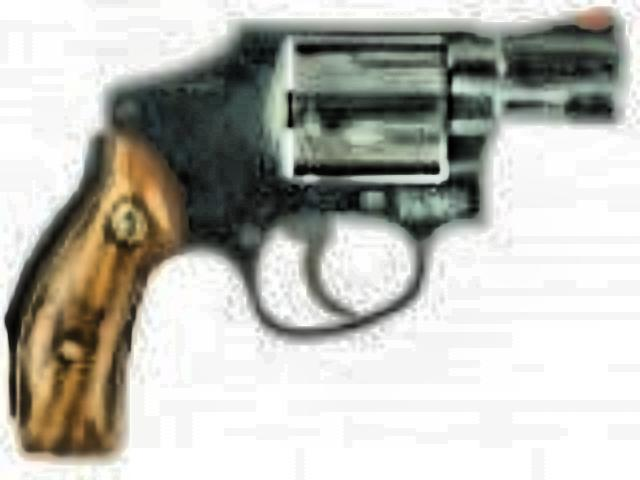pistol: (4, 8, 620, 452)
